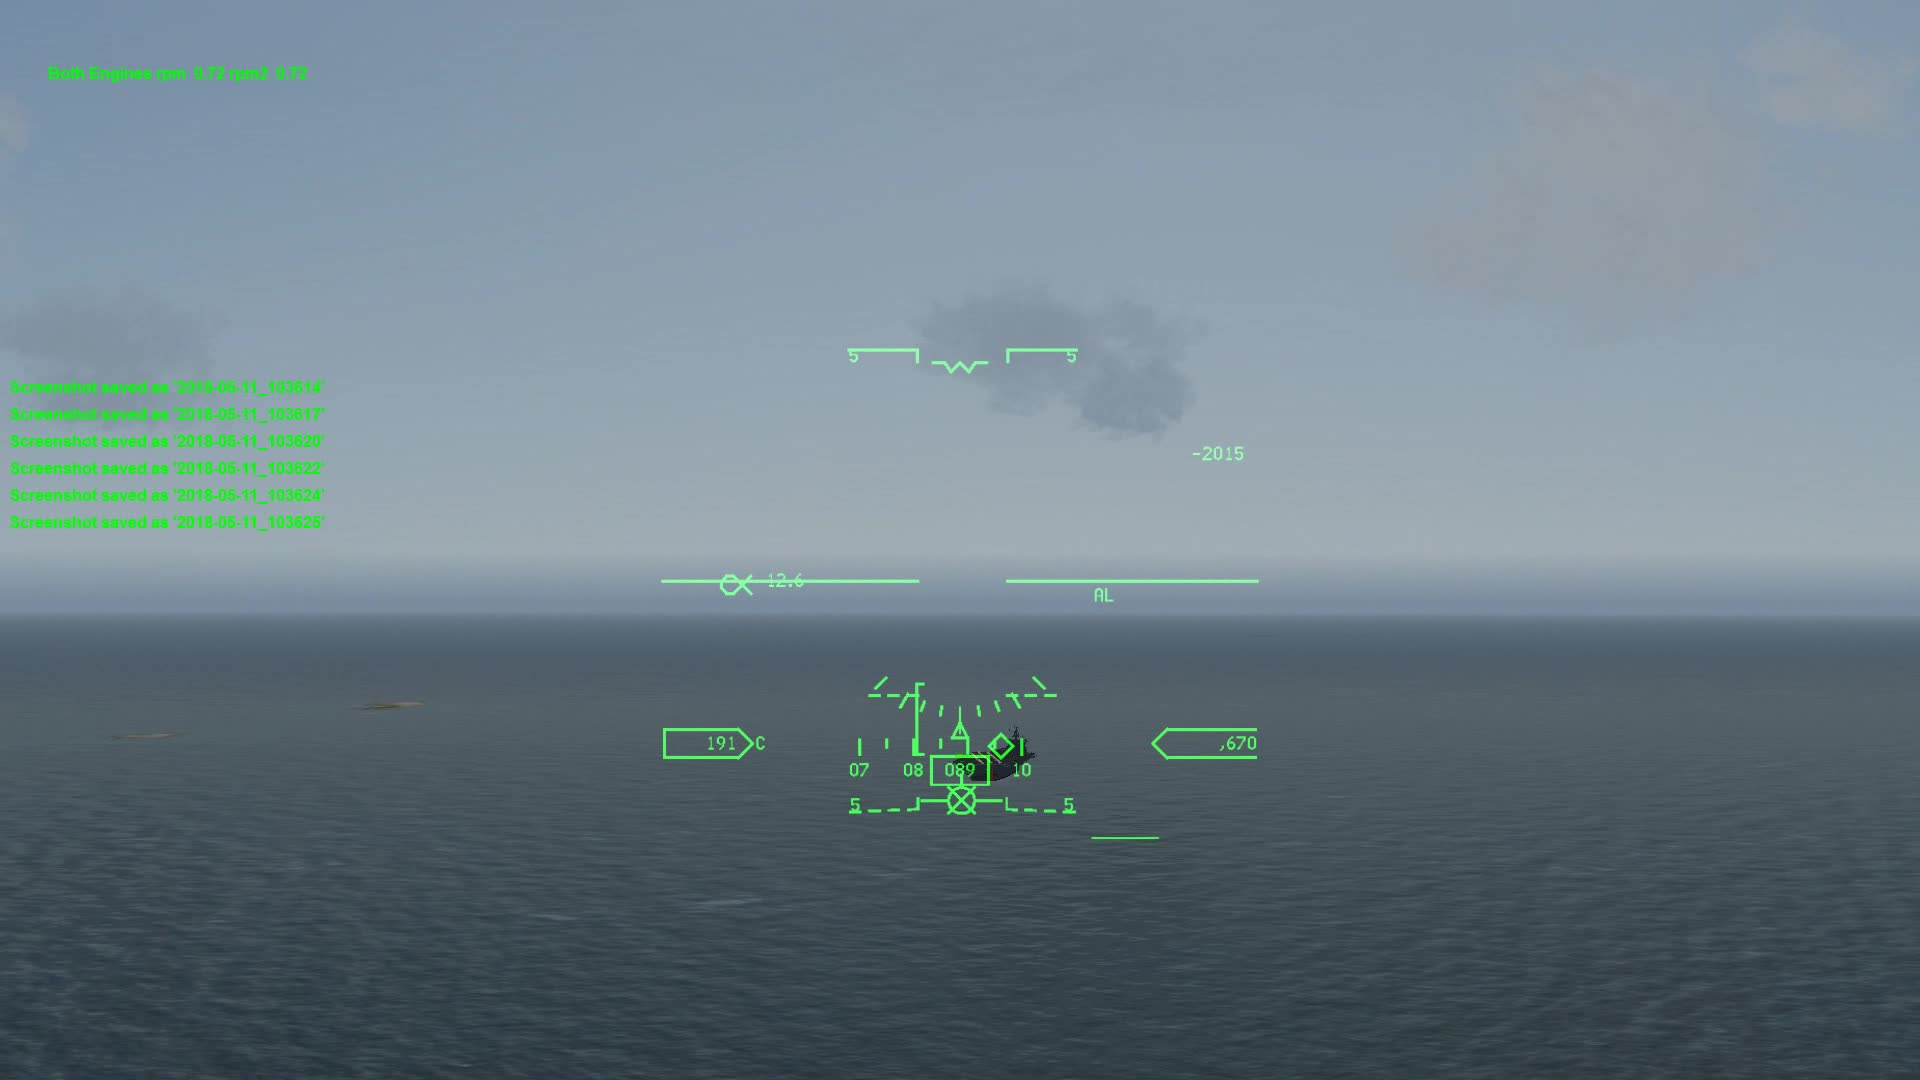speed vector: (918, 783, 1004, 818)
